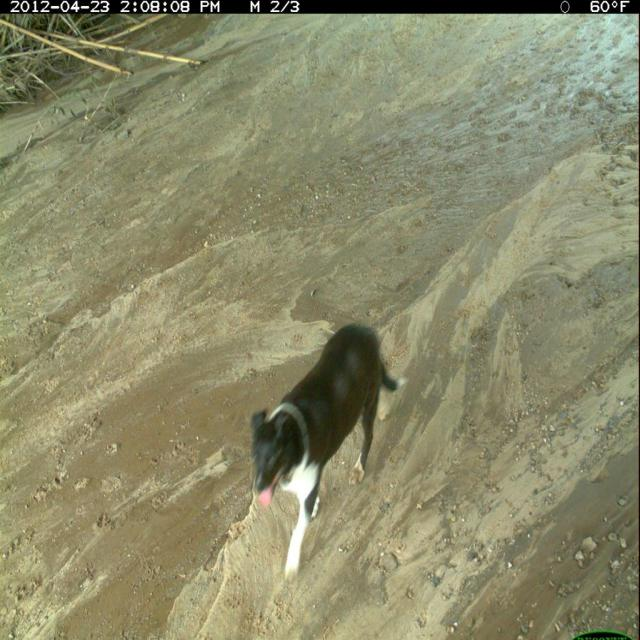dog: (248, 320, 411, 591)
